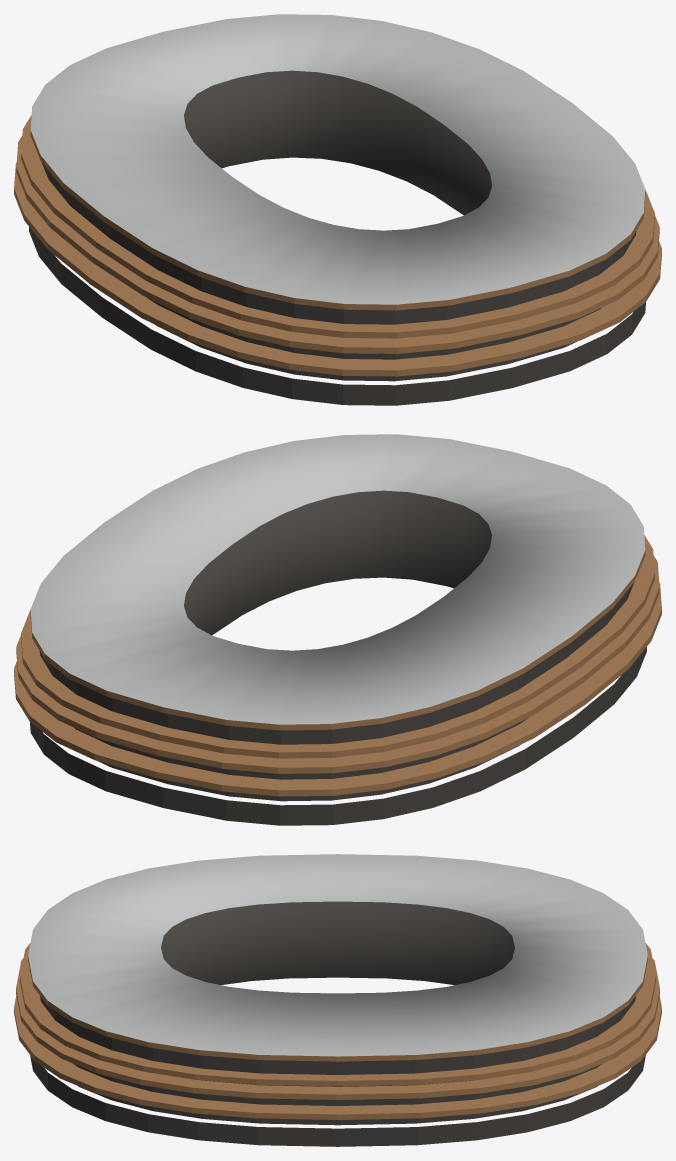
Rendered from national_stadium_far.glb.
3 views of the same model, one above another, from view 1: azimuth 30°, elevation 25°; view 2: azimuth 150°, elevation 25°; view 3: azimuth 270°, elevation 25° (orthographic). The views are drawn at different scales.
Visible parts, largest first — view 1: NationalStadium_Far; view 2: NationalStadium_Far; view 3: NationalStadium_Far.
Boxes of the visible parts, x1,y1,x2,y2 form: NationalStadium_Far: [14, 14, 661, 405]; NationalStadium_Far: [14, 434, 661, 825]; NationalStadium_Far: [14, 854, 661, 1146].
Bounding box in the file's own units: 252 × 53.35 × 322.
